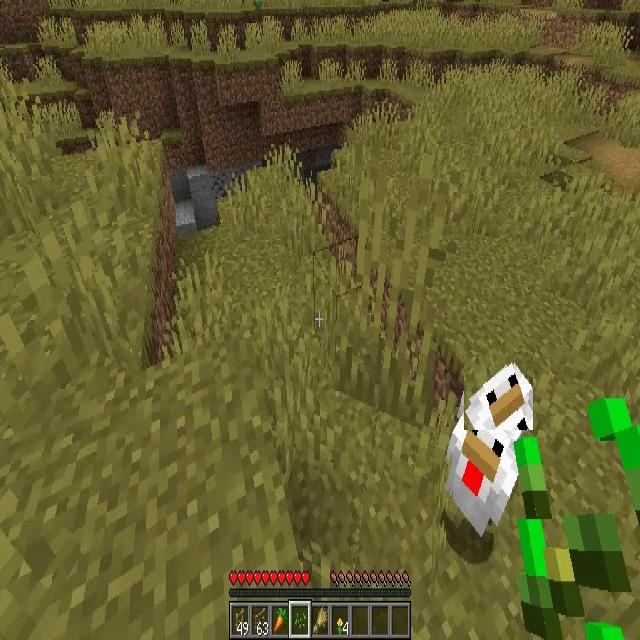duck: (447, 409, 518, 539), (464, 355, 533, 430)
